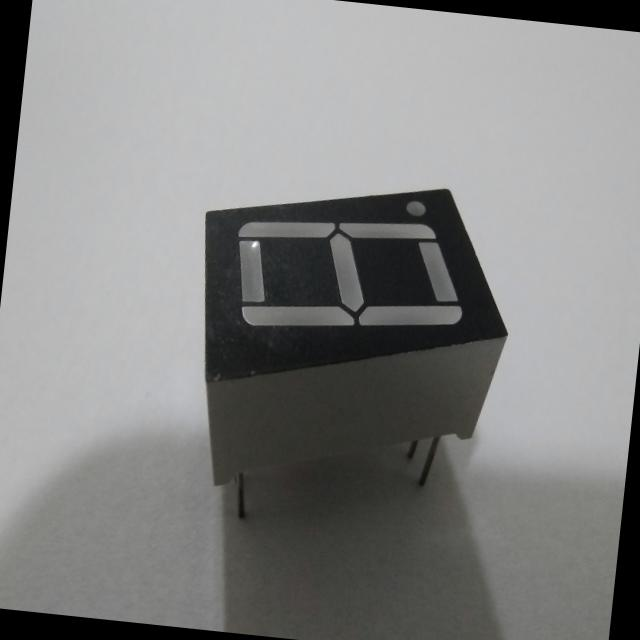7_segments: (168, 157, 530, 551)
